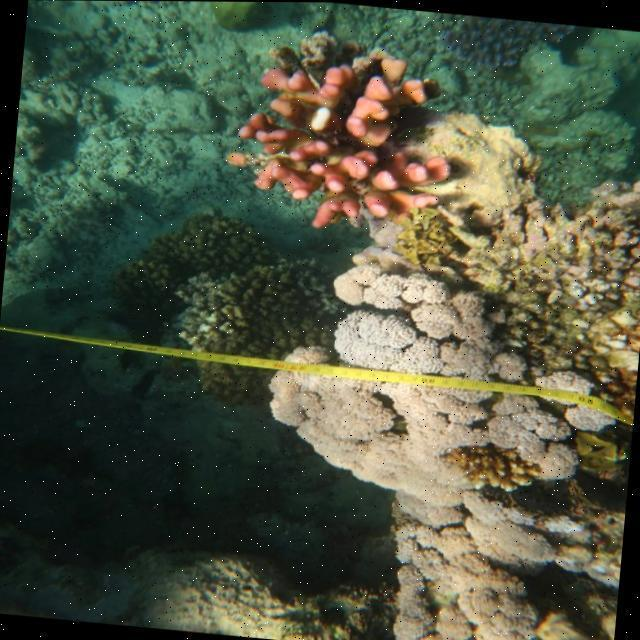Bleached Coral: (280, 264, 616, 514), (369, 488, 588, 640)
Dead Coral: (416, 11, 600, 82)
Healthy Coral: (227, 35, 441, 242)
